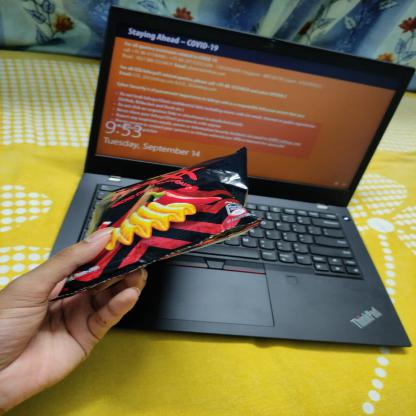max_chili: (85, 163, 253, 266)
